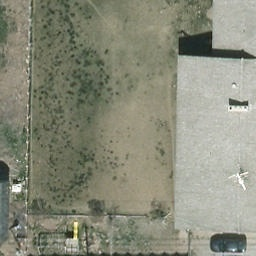car: (212, 236, 248, 253)
